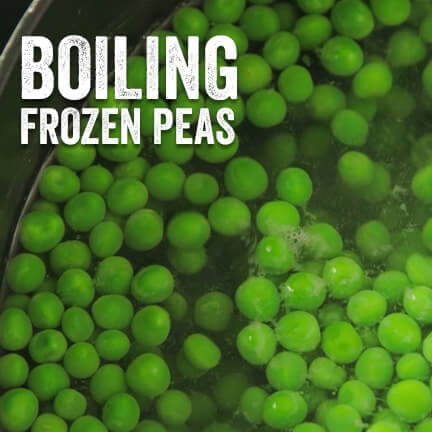boiled peas: (45, 159, 421, 432)
